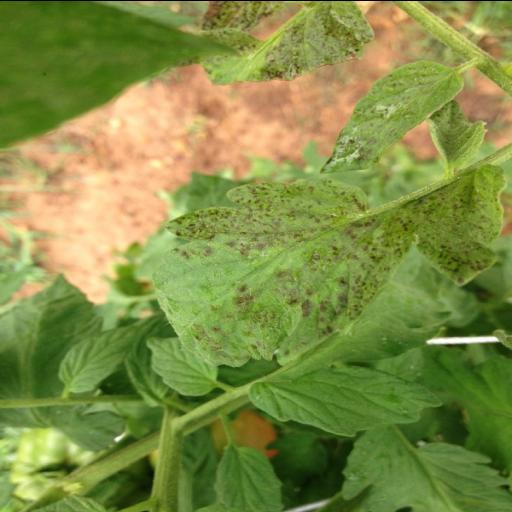disease_tomato: (138, 162, 508, 366), (315, 58, 467, 174)
